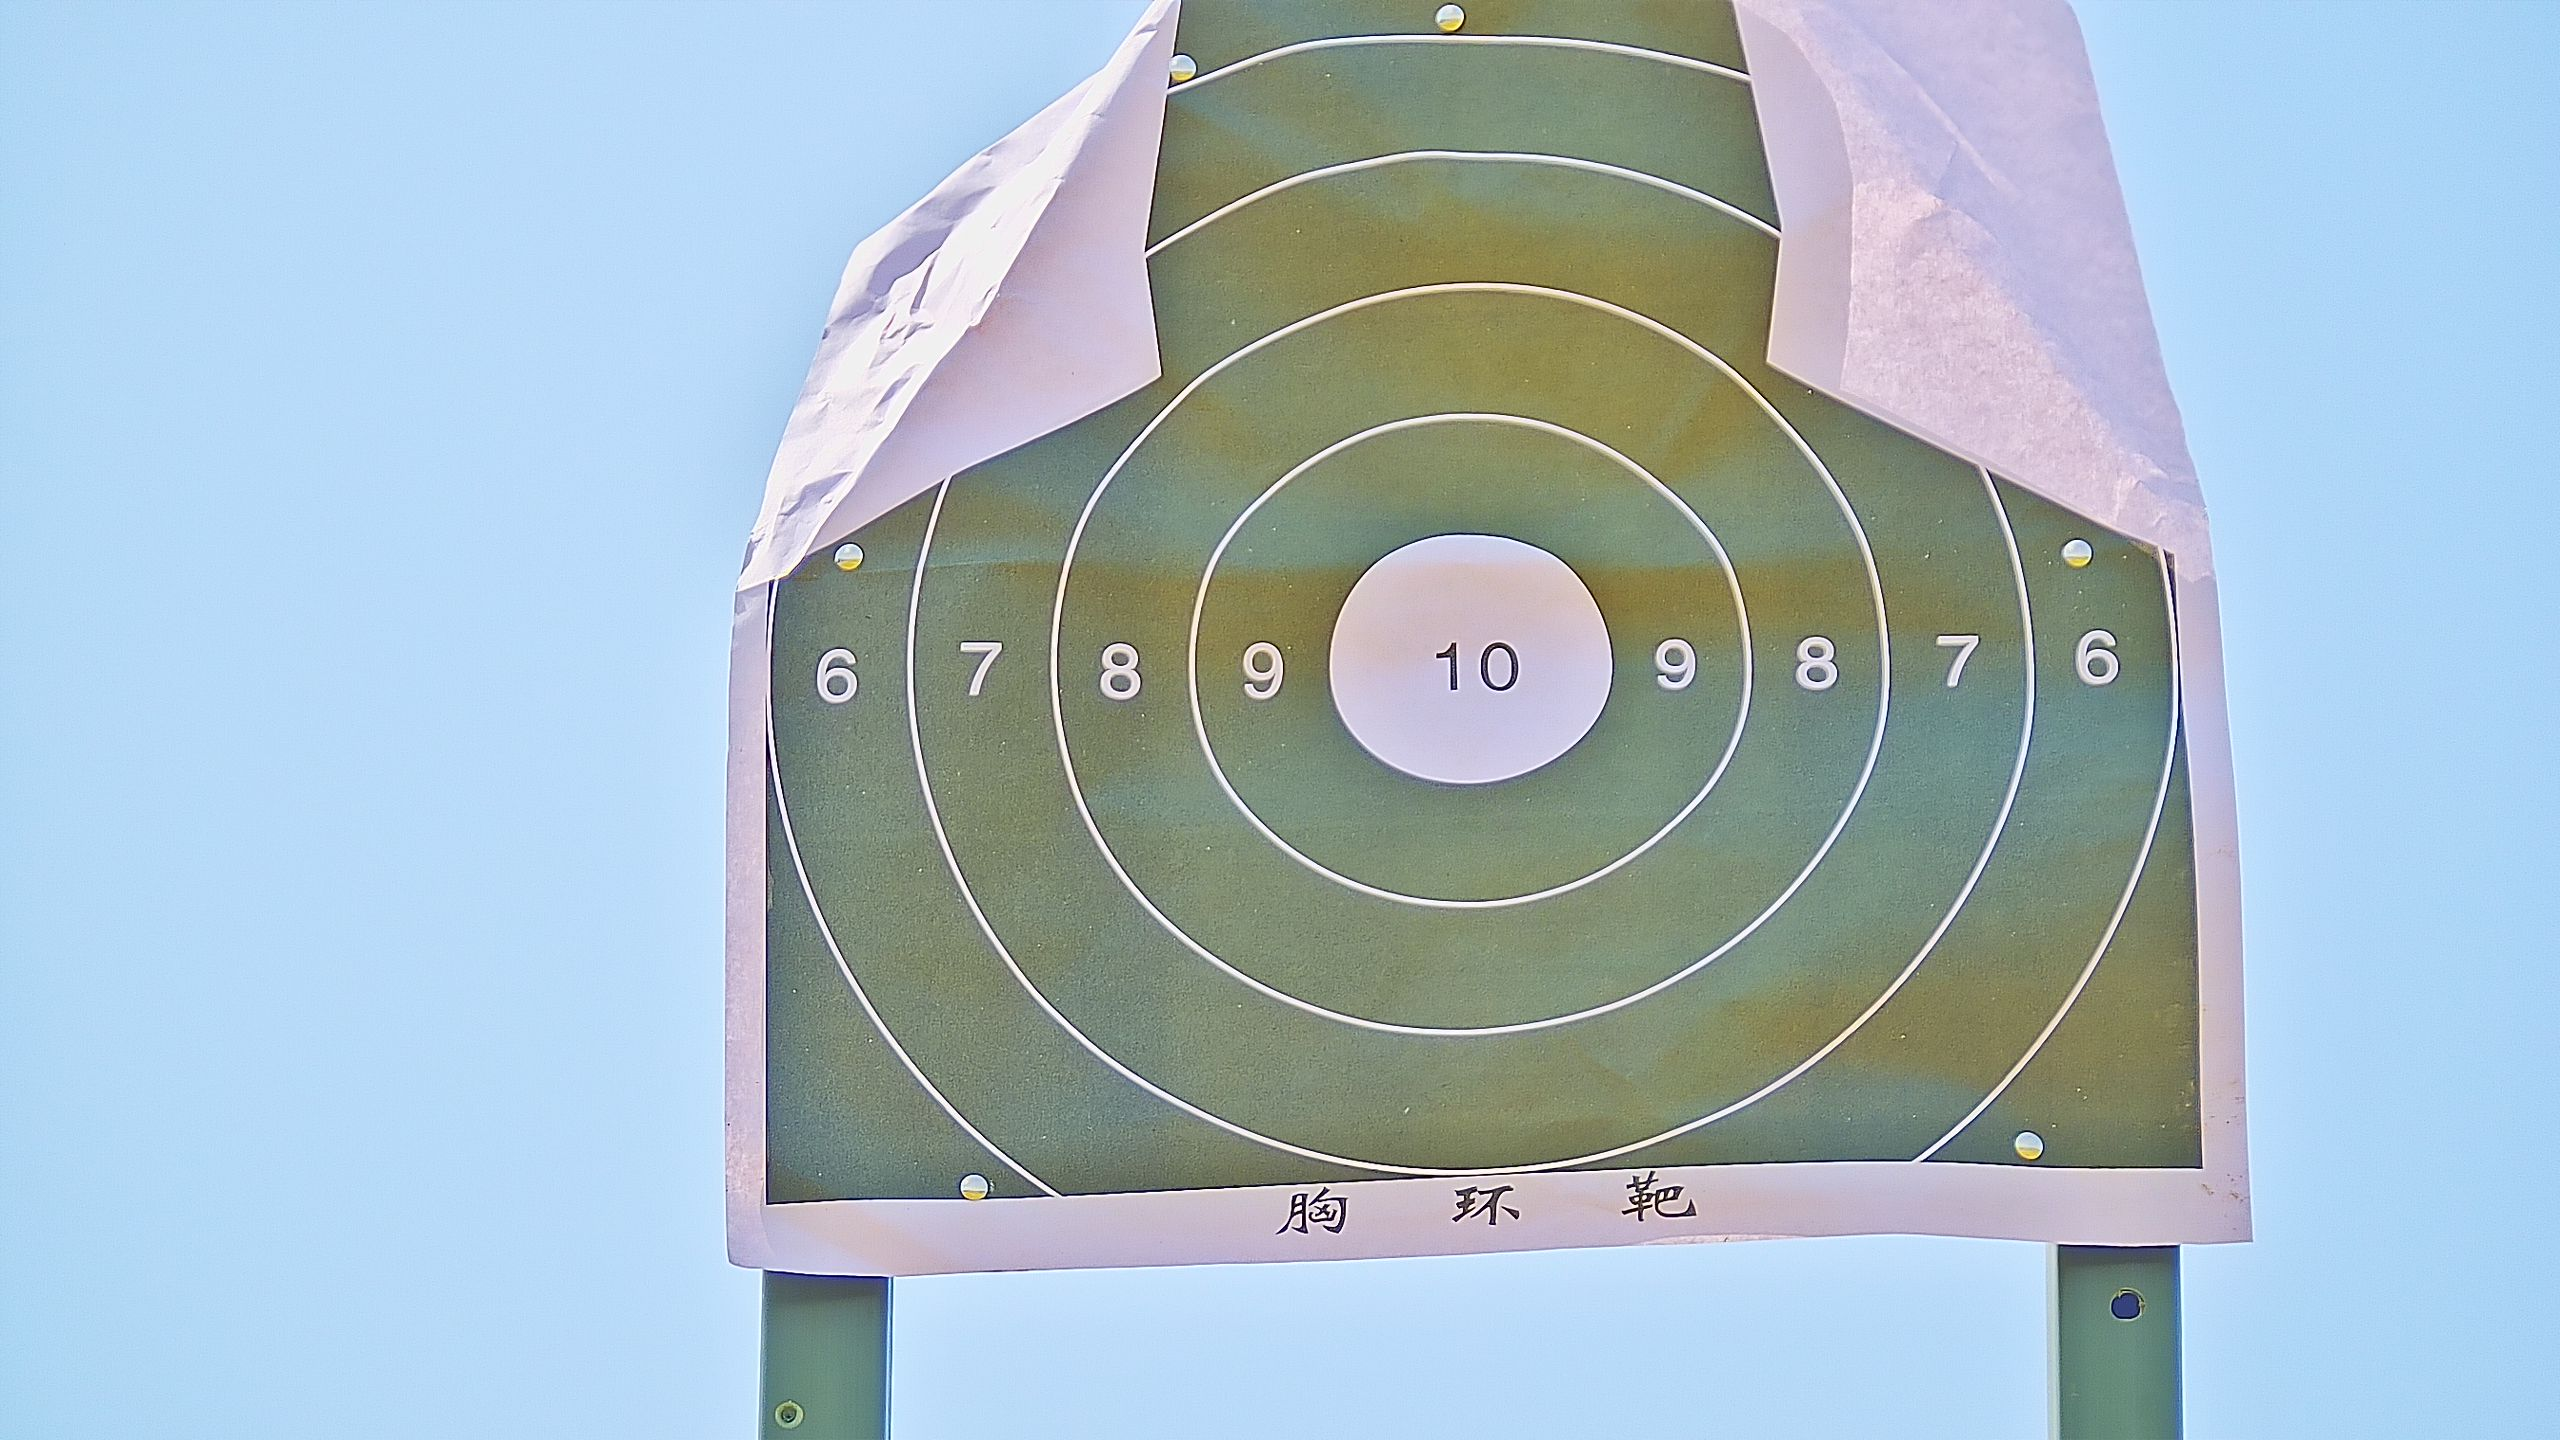kernel: (1468, 663, 1472, 673)
target: (767, 2, 2205, 1211)
ten: (1320, 529, 1611, 788)
